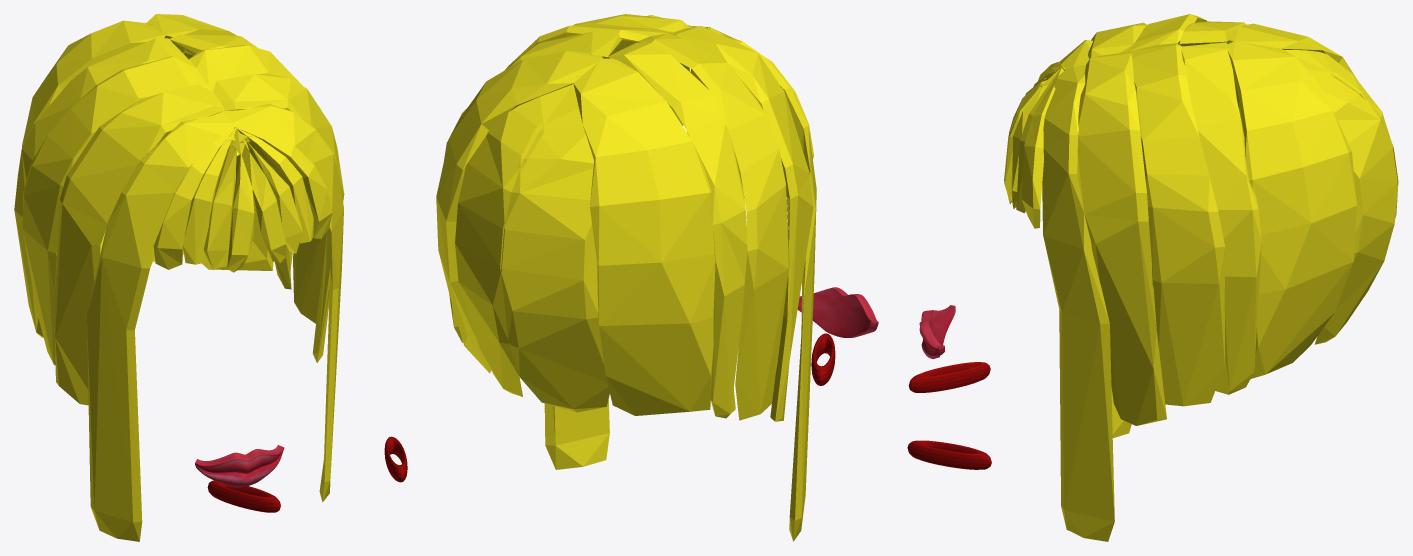
The model's file is hair.FBX.
3 views of the same model, side by side, from view 1: azimuth 30°, elevation 25°; view 2: azimuth 150°, elevation 25°; view 3: azimuth 270°, elevation 25° (orthographic). The views are drawn at different scales.
Visible parts, largest first — view 1: Hair, 12191_lips_v1, Torus001, Torus002; view 2: Hair, 12191_lips_v1, Torus001; view 3: Hair, Torus002, Torus001, 12191_lips_v1.
Part boxes in pixels (x1,y1,x2,y2): Hair: (14, 14, 344, 541); 12191_lips_v1: (195, 445, 284, 487); Torus001: (207, 480, 280, 512); Torus002: (384, 436, 407, 482); Hair: (436, 14, 816, 541); 12191_lips_v1: (797, 287, 878, 337); Torus001: (811, 333, 835, 385); Hair: (1004, 14, 1398, 541); Torus002: (907, 440, 991, 469); Torus001: (908, 362, 990, 392); 12191_lips_v1: (919, 305, 955, 358).
Bounding box in the file's own units: 7.89 × 11.78 × 11.5.
